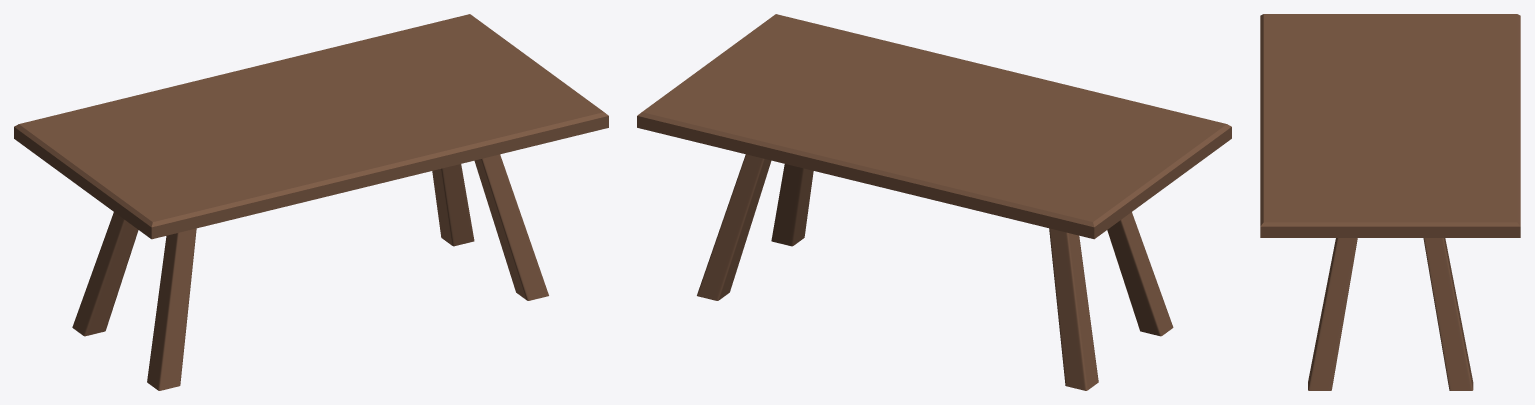
Rendered from long_dining__fb2f8f65156e.glb.
3 renders of one model, left to right at view 1: azimuth 30°, elevation 25°; view 2: azimuth 150°, elevation 25°; view 3: azimuth 270°, elevation 25°, orthographic. The views are drawn at different scales.
Parts seen in each view (by area): view 1: tabletop, front_leg.001, front_leg, rear_leg.001, rear_leg; view 2: tabletop, rear_leg.001, rear_leg, front_leg.001, front_leg; view 3: tabletop, rear_leg, front_leg.
Boxes of the visible parts, bbox=[...] form: tabletop: bbox=[14, 14, 608, 239]; front_leg.001: bbox=[147, 228, 196, 390]; front_leg: bbox=[474, 154, 548, 300]; rear_leg.001: bbox=[72, 212, 138, 336]; rear_leg: bbox=[432, 164, 474, 246]; tabletop: bbox=[637, 14, 1231, 239]; rear_leg.001: bbox=[1049, 228, 1098, 390]; rear_leg: bbox=[697, 154, 771, 300]; front_leg.001: bbox=[1107, 212, 1173, 336]; front_leg: bbox=[771, 164, 813, 246]; tabletop: bbox=[1260, 14, 1520, 237]; rear_leg: bbox=[1423, 238, 1473, 390]; front_leg: bbox=[1308, 238, 1357, 390].
Size of the model in its own units: 1.8 by 0.7273 by 0.9376.
